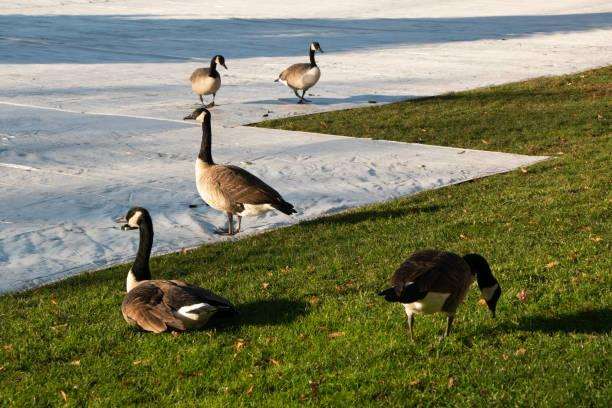Canadian-Goose: (114, 207, 229, 337), (184, 108, 296, 230), (383, 245, 506, 339), (278, 40, 325, 102), (189, 53, 230, 107)
